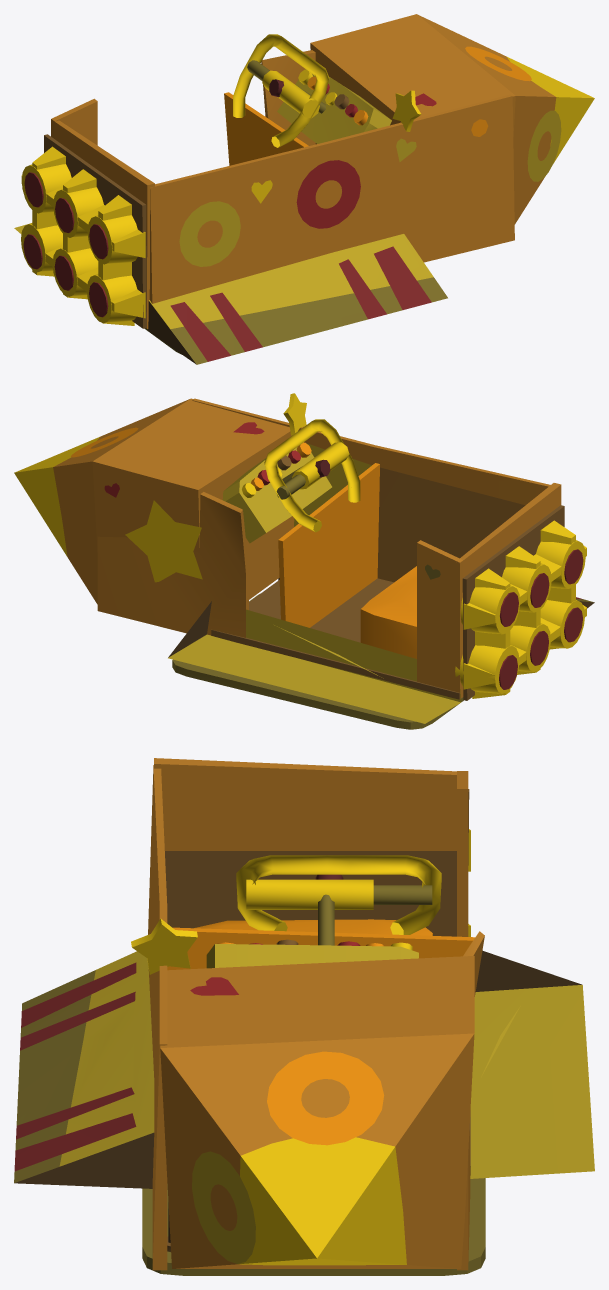
The model's file is cardboard_rocket.glb.
The picture shows the model from 3 angles, top to bottom: view 1: azimuth 30°, elevation 25°; view 2: azimuth 150°, elevation 25°; view 3: azimuth 270°, elevation 25°; orthographic projection. The views are drawn at different scales.
Visible parts, largest first — view 1: Box052-cardboard_main, Box050-cardboard_main, Box055-green_main, Cylinder045, Box055-green_dark, Box055-pillow, Box054-cardboard_main, Box058, Torus002, Box059, Line002, Torus001 (+20 smaller); view 2: Box050-cardboard_main, Box056-green_main, Box053, Box059, Box052-Material #222, Cylinder045, Null, Box052-cardboard_main, Box051, Box060, Box058, Star002 (+21 smaller); view 3: Box050-cardboard_main, Box054-cardboard_main, Box056-green_main, Box050-jet, Box055-green_main, Box054-cardboard_dark, Box055-green_dark, Torus004, Box055-pillow, Box052-cardboard_main, Line002, Box057 (+12 smaller).
Boxes of the visible parts, left/top/right/bottom form: Box052-cardboard_main: left=149, top=94, right=514, bottom=303; Box050-cardboard_main: left=310, top=14, right=556, bottom=224; Box055-green_main: left=149, top=234, right=433, bottom=329; Cylinder045: left=21, top=164, right=137, bottom=323; Box055-green_dark: left=170, top=277, right=447, bottom=364; Box055-pillow: left=170, top=246, right=431, bottom=361; Box054-cardboard_main: left=54, top=120, right=154, bottom=328; Box058: left=277, top=74, right=391, bottom=143; Torus002: left=296, top=160, right=360, bottom=228; Box059: left=224, top=92, right=308, bottom=165; Line002: left=233, top=34, right=329, bottom=147; Torus001: left=179, top=201, right=240, bottom=266; Box050-cardboard_main: left=53, top=398, right=294, bottom=604; Box056-green_main: left=168, top=609, right=461, bottom=723; Box053: left=97, top=492, right=248, bottom=637; Box059: left=278, top=463, right=379, bottom=627; Box052-Material #222: left=377, top=467, right=525, bottom=582; Cylinder045: left=455, top=540, right=585, bottom=693; Null: left=417, top=540, right=463, bottom=698; Box052-cardboard_main: left=192, top=398, right=550, bottom=505; Box051: left=211, top=578, right=459, bottom=699; Box060: left=360, top=566, right=416, bottom=658; Box058: left=222, top=447, right=331, bottom=543; Star002: left=125, top=500, right=202, bottom=582; Box050-cardboard_main: left=160, top=956, right=474, bottom=1268; Box054-cardboard_main: left=154, top=758, right=456, bottom=850; Box056-green_main: left=470, top=985, right=594, bottom=1178; Box050-jet: left=237, top=1137, right=406, bottom=1265; Box055-green_main: left=59, top=951, right=154, bottom=1166; Box054-cardboard_dark: left=165, top=851, right=456, bottom=936; Box055-green_dark: left=14, top=970, right=95, bottom=1182; Torus004: left=267, top=1051, right=384, bottom=1145; Box055-pillow: left=14, top=962, right=136, bottom=1171; Box052-cardboard_main: left=148, top=765, right=167, bottom=1270; Line002: left=236, top=855, right=441, bottom=934; Box057: left=142, top=1178, right=485, bottom=1275.
Bounding box in the file's own units: 1.81 × 0.7298 × 1.08.
